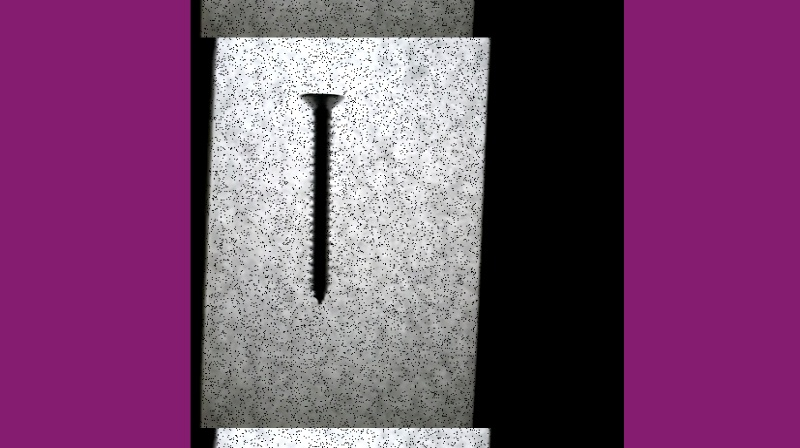S002: (296, 90, 348, 307)
